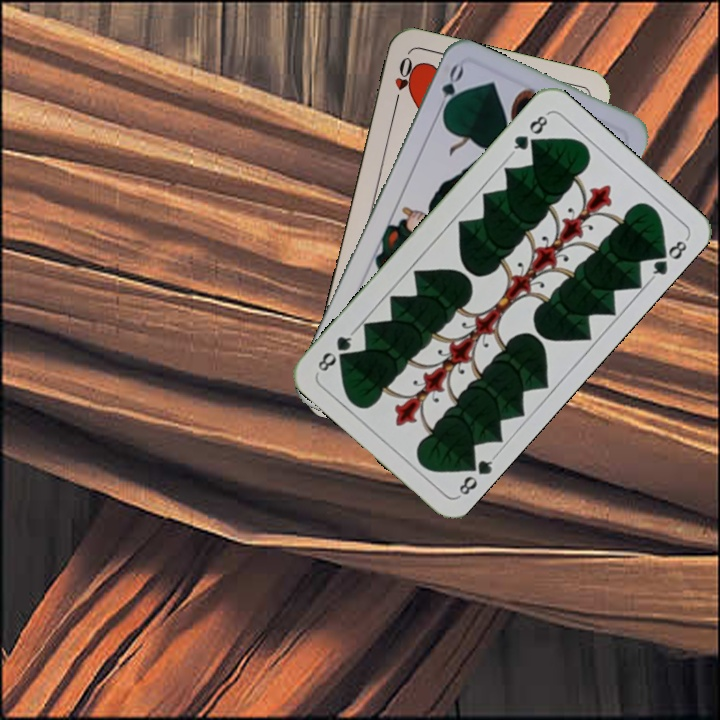G8: (454, 451, 499, 500), (507, 109, 551, 157)
GO: (432, 61, 467, 120)
HO: (390, 52, 418, 110)
